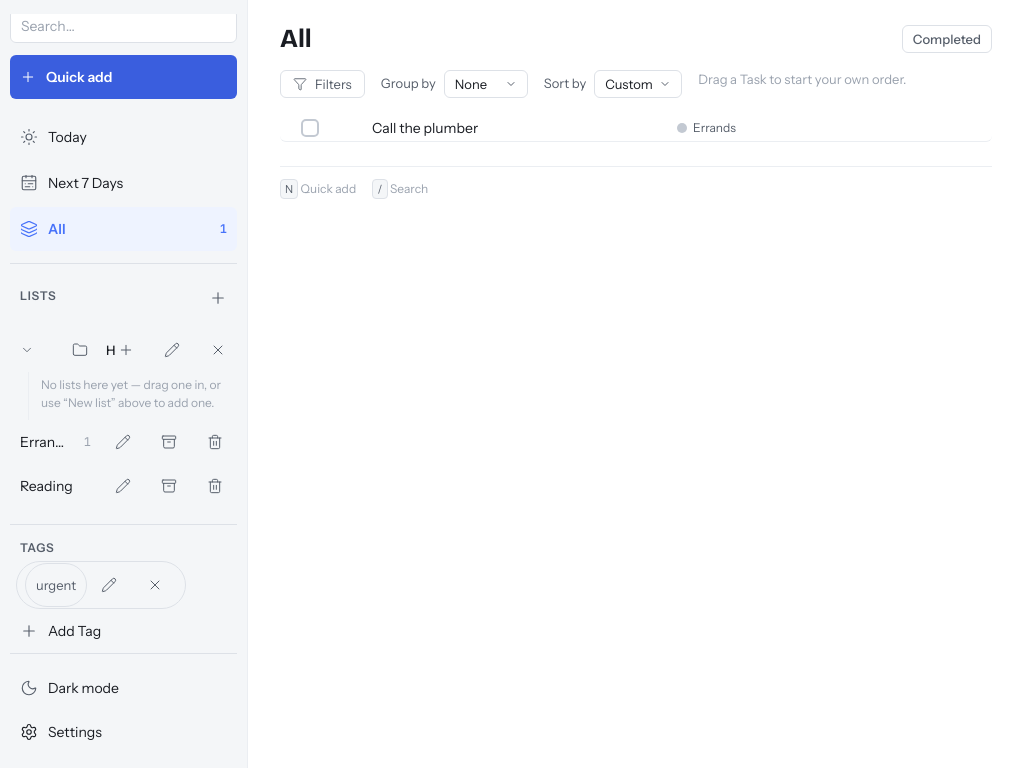
it: command palette › opens even from a focused text field
(page scrolled)
Click the button "Errands 1".
click(56, 442)  # box [10,420,101,464]
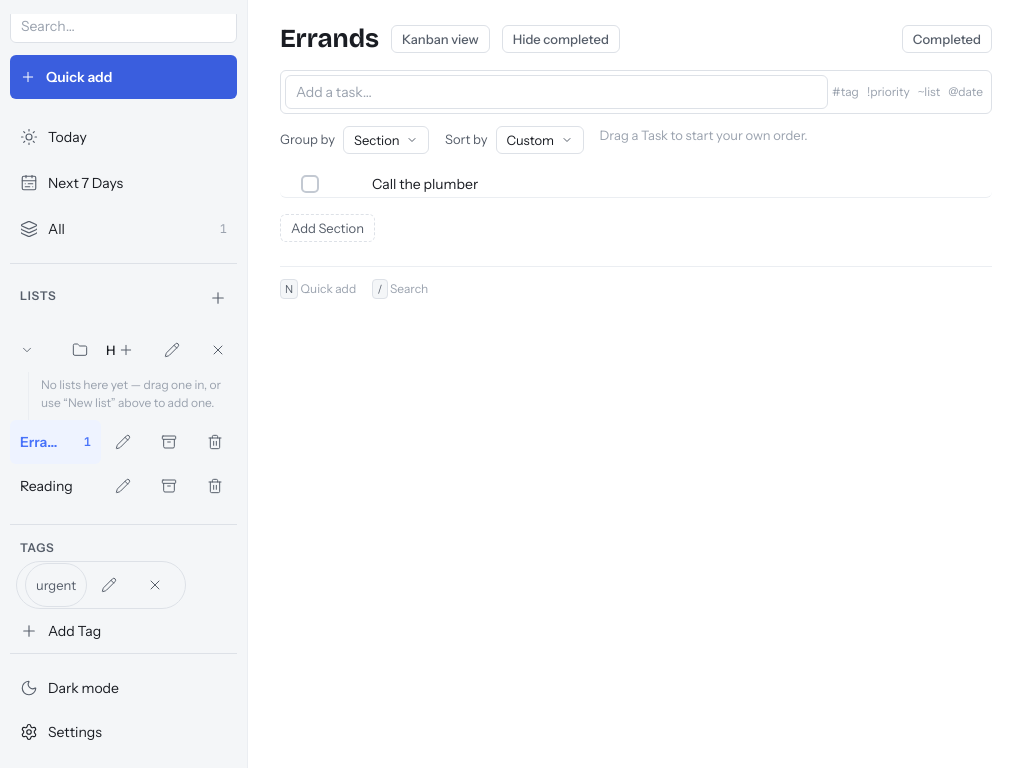
Click the dropdown labelled "Add a task".
click(557, 92)  # box [285,75,828,109]
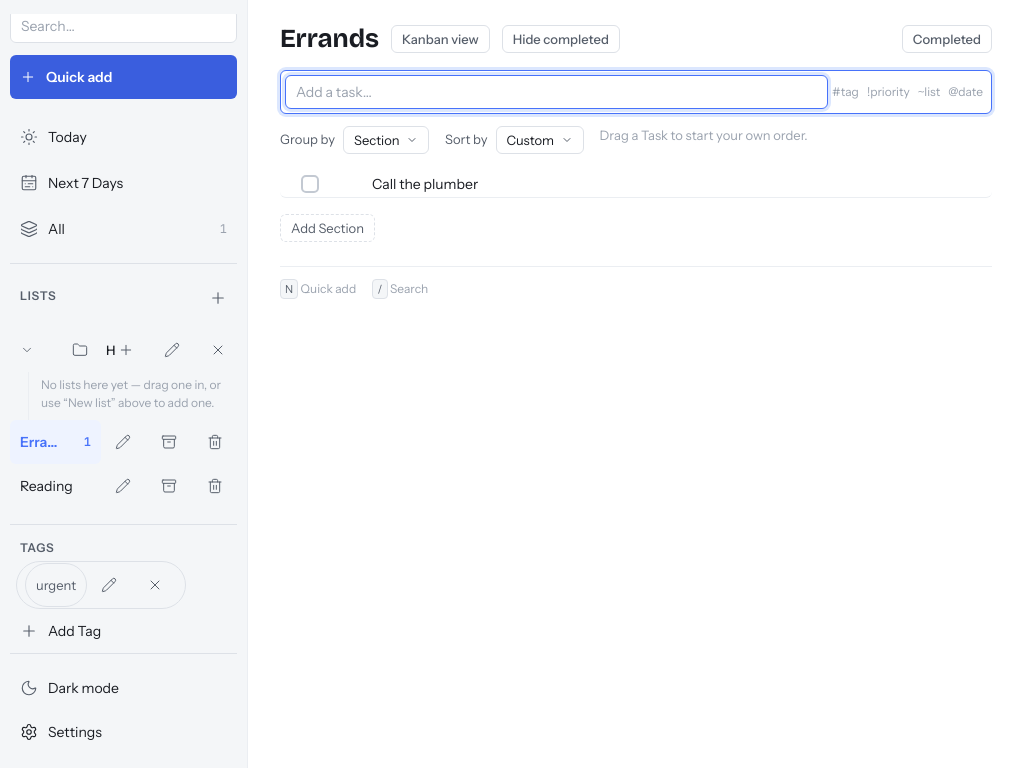
Press k
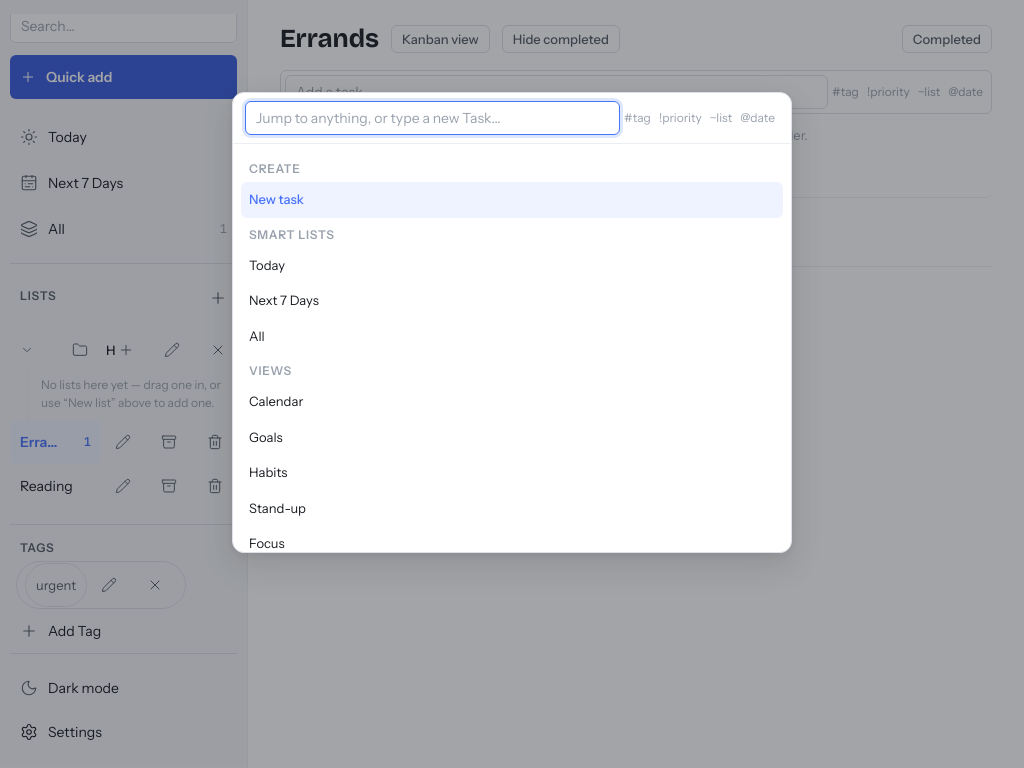
Result: the dialog named "Command palette" is shown at [232,92,792,553]
